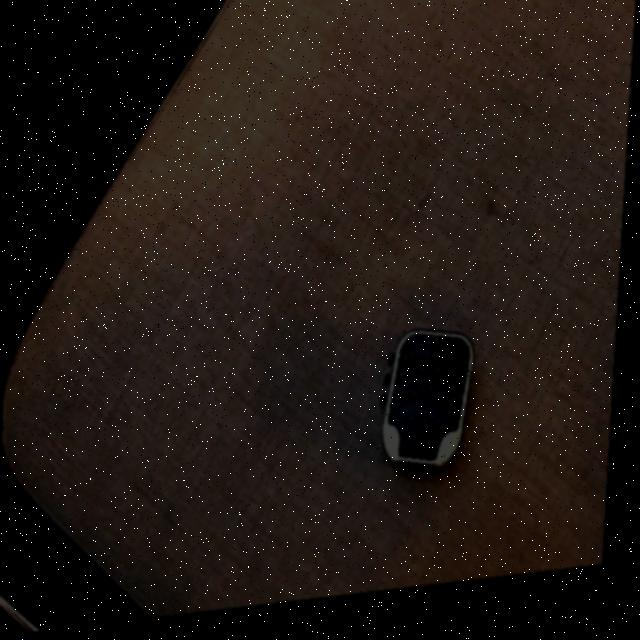adapter: (382, 333, 481, 486)
